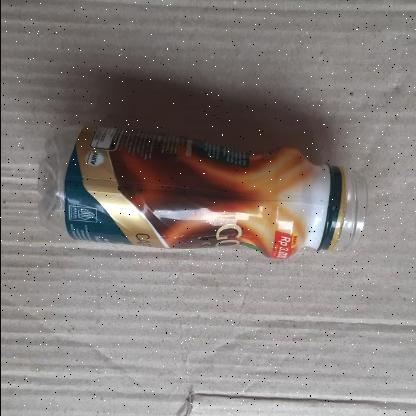Plastic Bottle: (34, 128, 368, 260)
